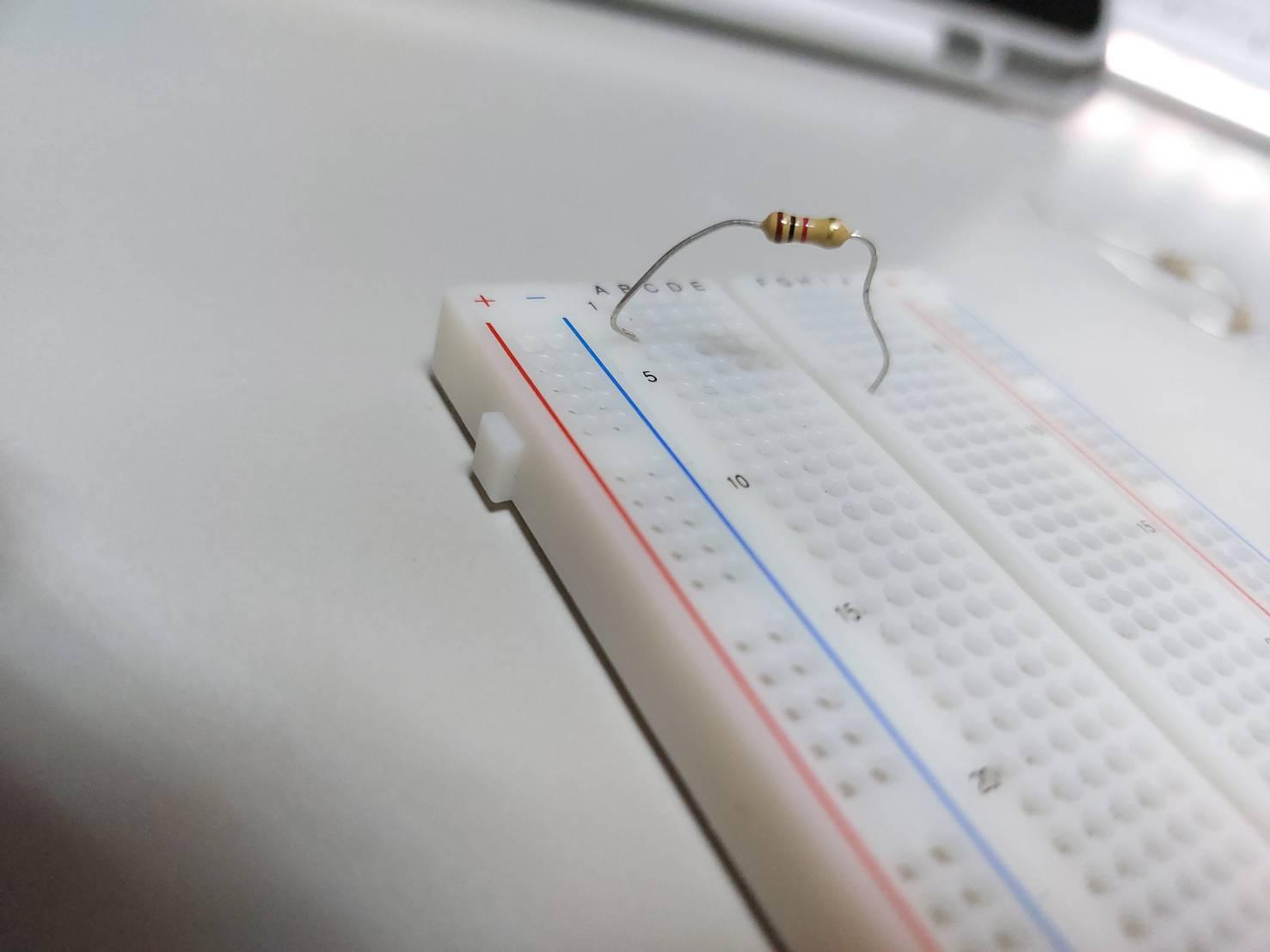resistor: (762, 211, 850, 249)
